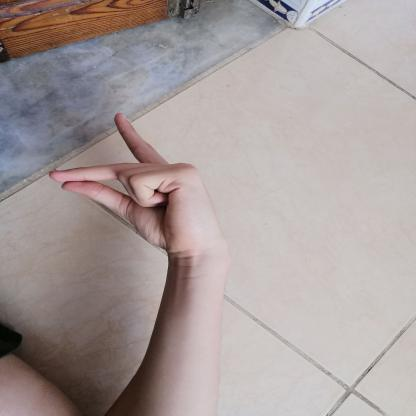TAA: (37, 104, 234, 261)
